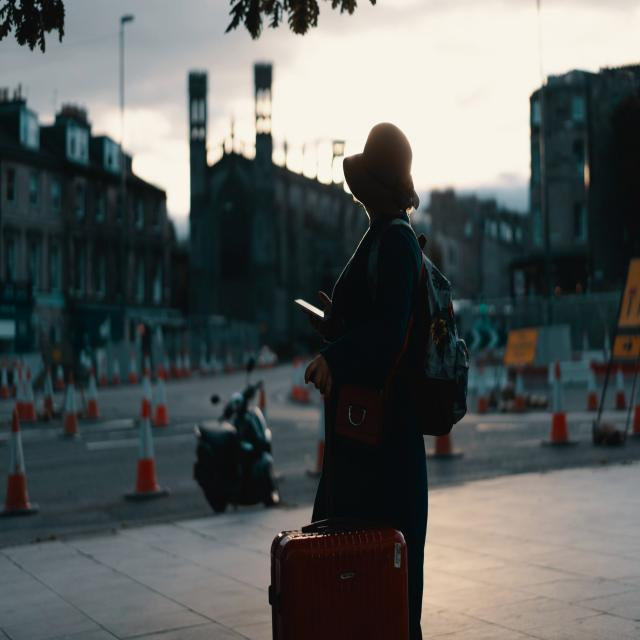adult: (303, 122, 430, 640)
